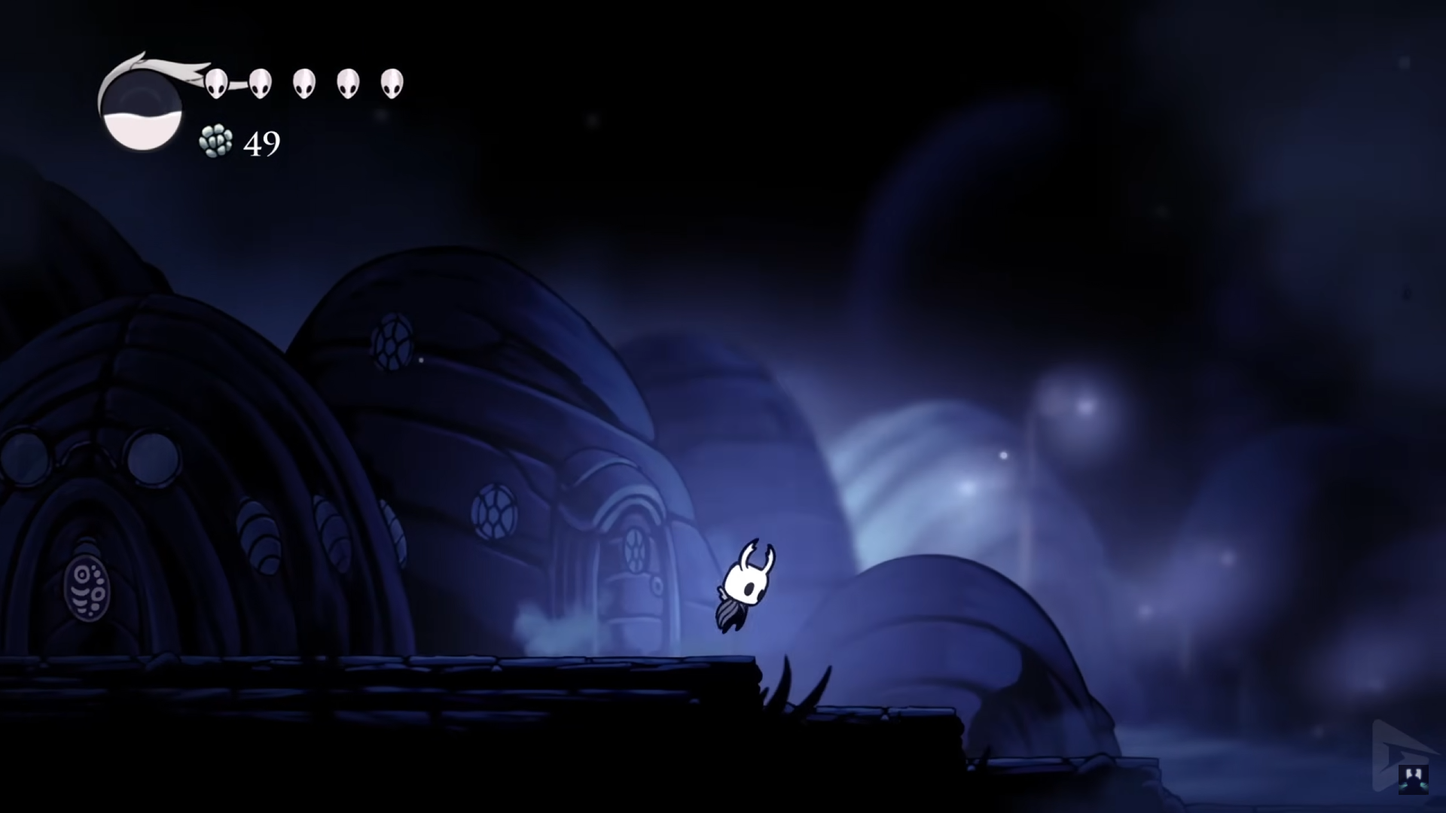HK: (712, 537, 773, 638)
